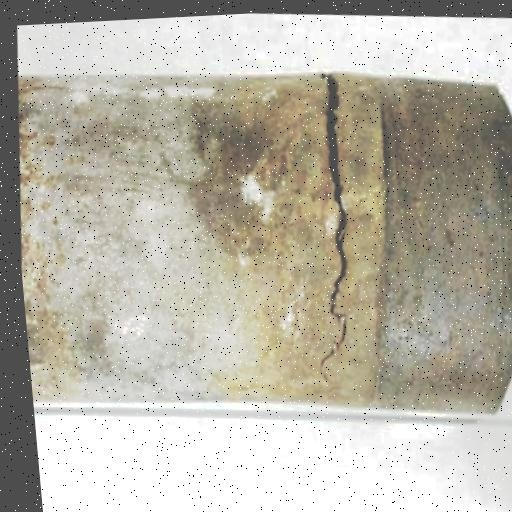crack: (286, 67, 395, 389)
